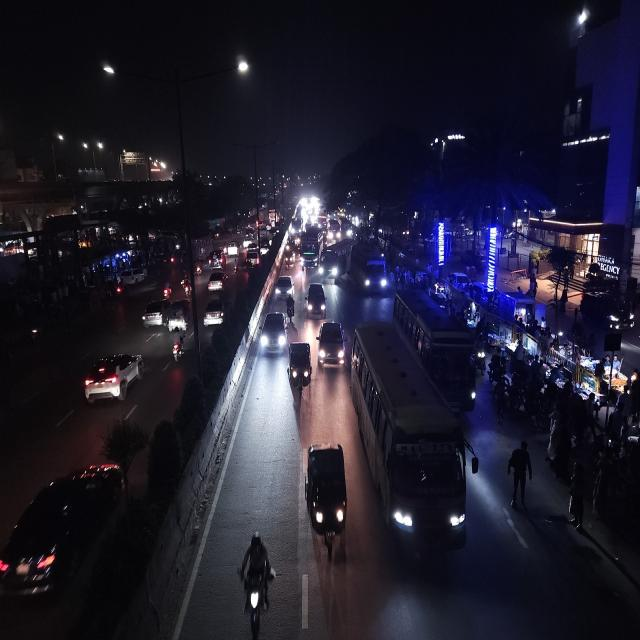bus: (348, 319, 474, 571), (393, 286, 479, 409), (348, 240, 388, 298), (320, 239, 350, 283), (299, 225, 323, 270), (327, 220, 341, 242)
car: (0, 454, 126, 608), (81, 347, 146, 407), (317, 317, 345, 374), (259, 308, 289, 358), (140, 297, 172, 330), (305, 280, 327, 320), (203, 294, 227, 329), (273, 273, 295, 300), (205, 269, 228, 294), (244, 247, 262, 268), (207, 250, 225, 269), (227, 243, 240, 257)
cng: (304, 438, 349, 564), (287, 340, 313, 396), (170, 298, 190, 333), (282, 247, 296, 268)
motorcycle: (235, 526, 277, 638), (169, 326, 187, 367), (284, 294, 296, 326), (179, 275, 193, 298), (161, 280, 173, 299), (298, 258, 305, 275), (233, 259, 240, 276)
pedestrian: (505, 439, 533, 507), (566, 464, 588, 535)
